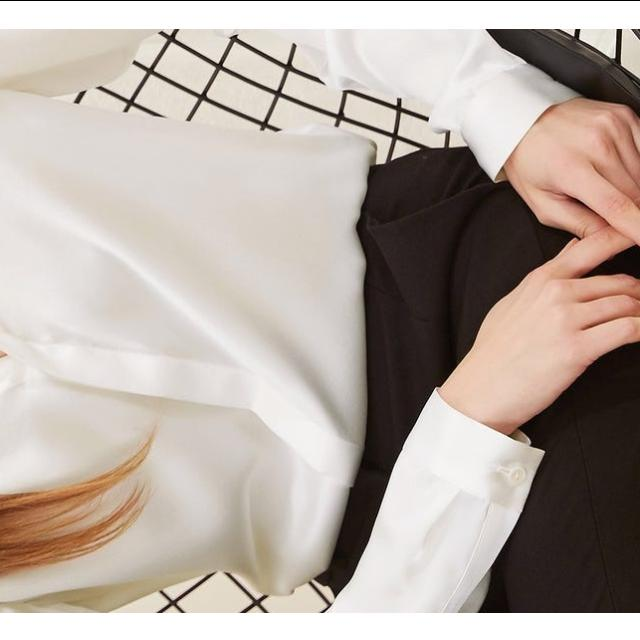silk: (0, 28, 336, 612)
